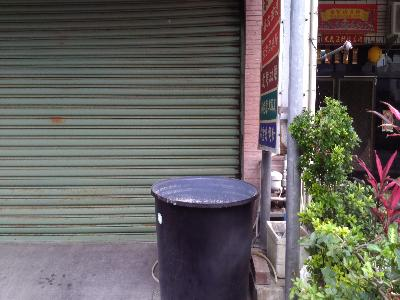bucket: (148, 176, 260, 300)
